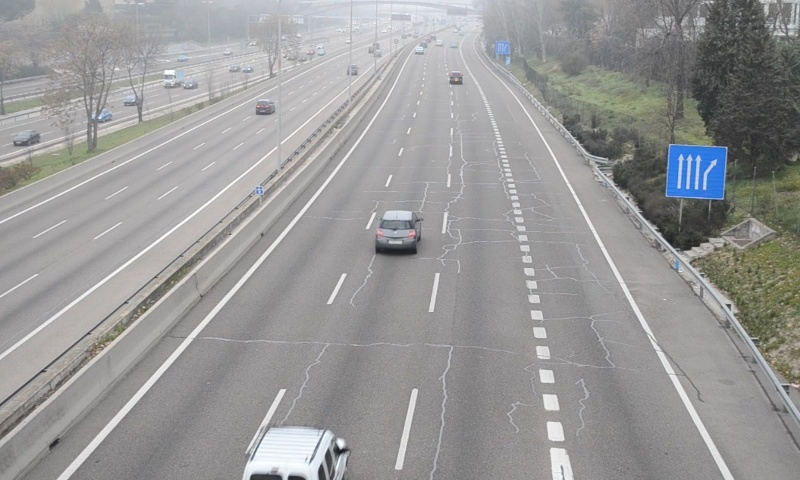car: (376, 210, 421, 251), (448, 70, 464, 86)
van: (241, 429, 346, 480)
